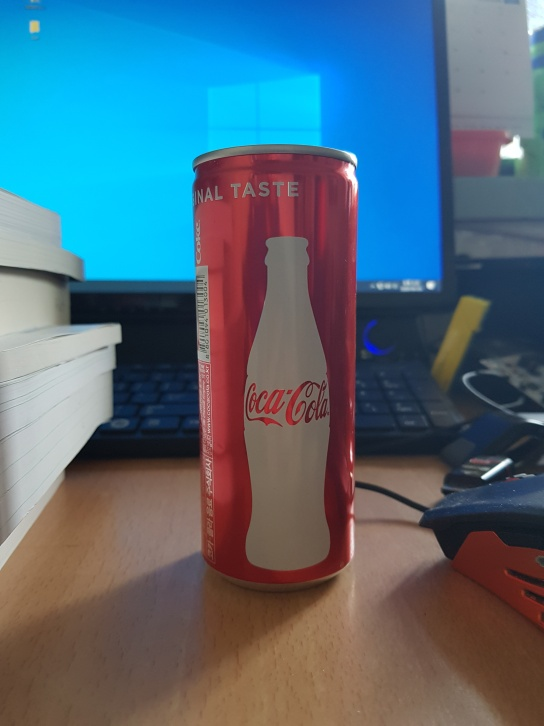Can: (186, 142, 362, 592)
